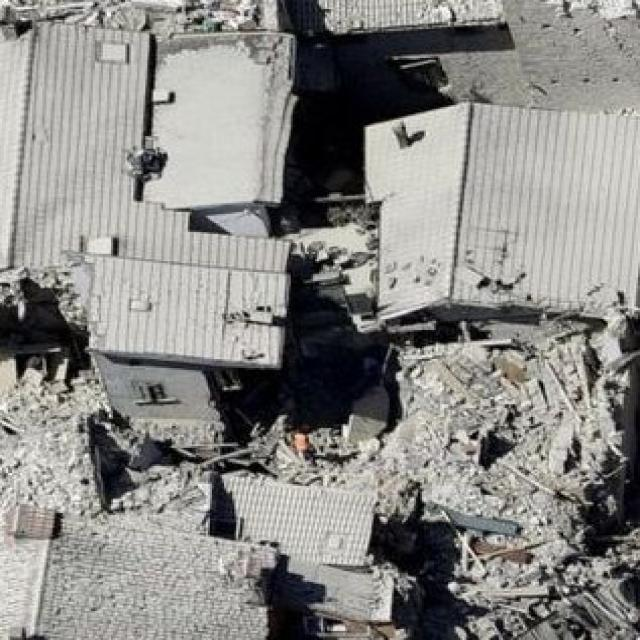collapsed_building: (12, 32, 285, 534), (367, 123, 638, 600)
